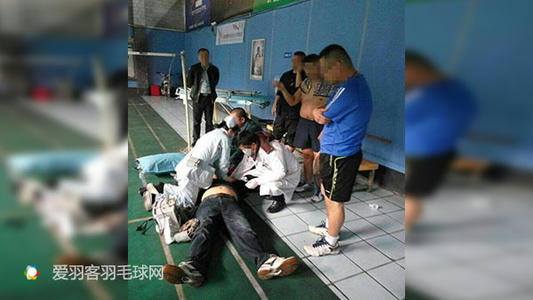fall: (155, 176, 312, 283)
